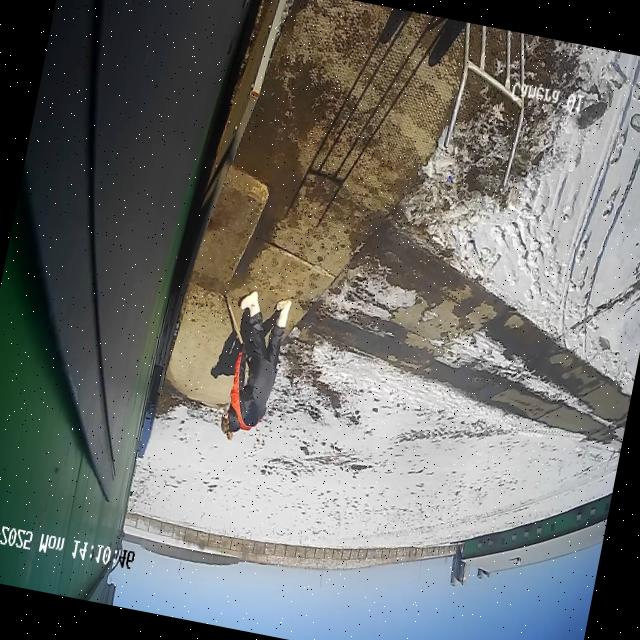Red uniform: (210, 285, 296, 449)
